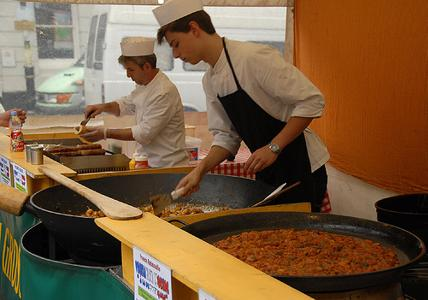person: (154, 3, 337, 216)
